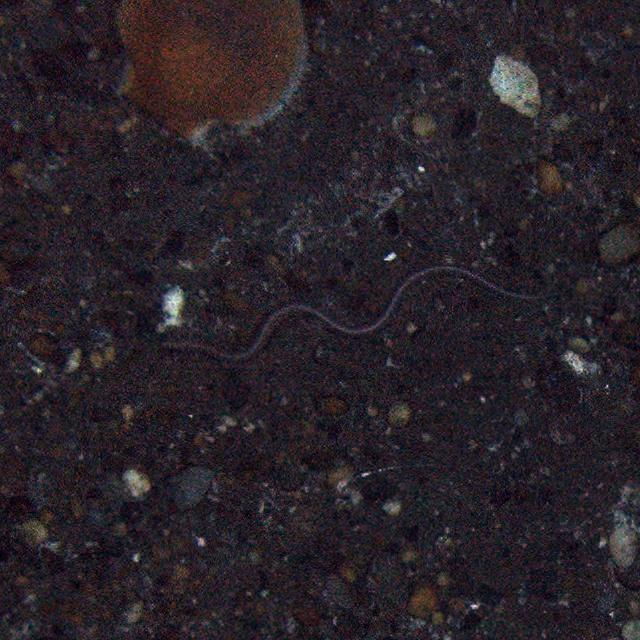eel: (160, 270, 560, 368)
